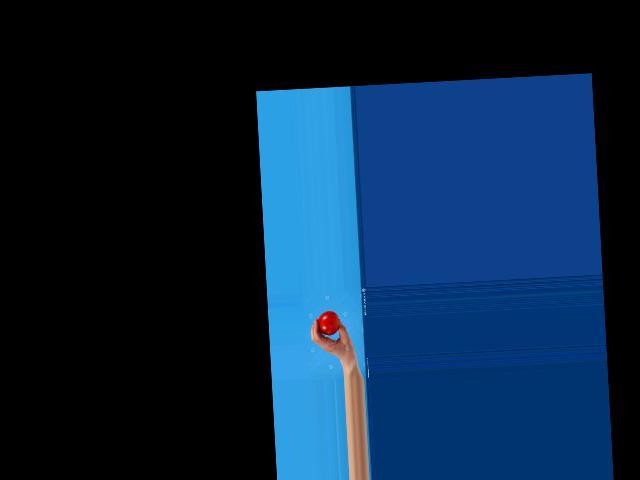tomato: (317, 311, 339, 335)
